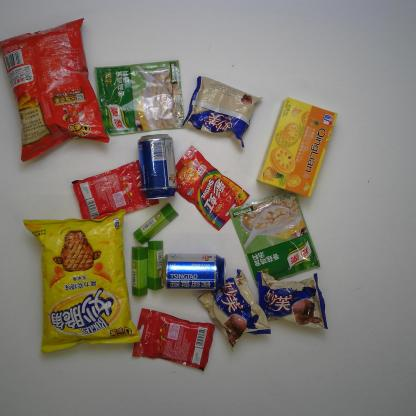Alcohol: (136, 131, 178, 201), (161, 253, 226, 291)
Candy: (173, 145, 250, 231), (71, 159, 160, 222), (131, 308, 214, 373)
Dessert: (256, 96, 338, 198), (196, 268, 271, 352), (181, 74, 262, 149), (256, 270, 329, 331)
Puffed Food: (22, 208, 141, 354), (0, 15, 110, 163)
Seasoner: (229, 190, 320, 288), (92, 58, 185, 138)
Stationery: (133, 202, 179, 245), (146, 240, 165, 291), (131, 246, 148, 296)
